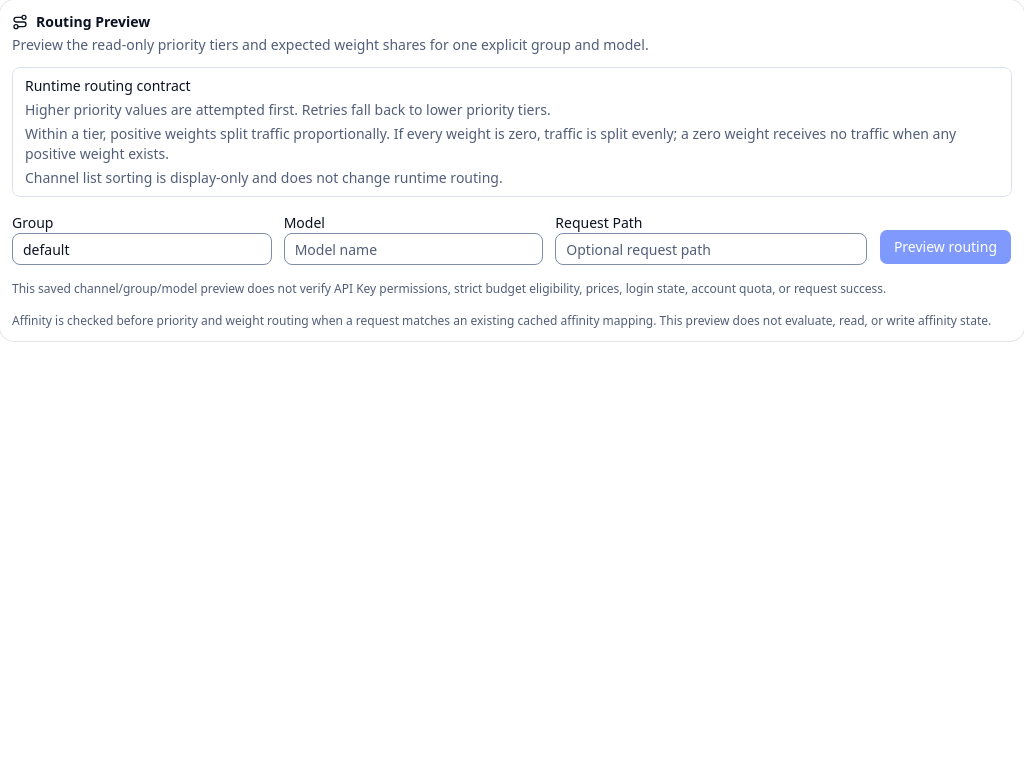
account scheduling preview › cooling remaining eligible accounts and unknown exclusions are explained without exposing raw reasons or widening narrow screens
Type "public-model" into the field named "Routing preview model" at (413, 249), box [284,233,543,265]
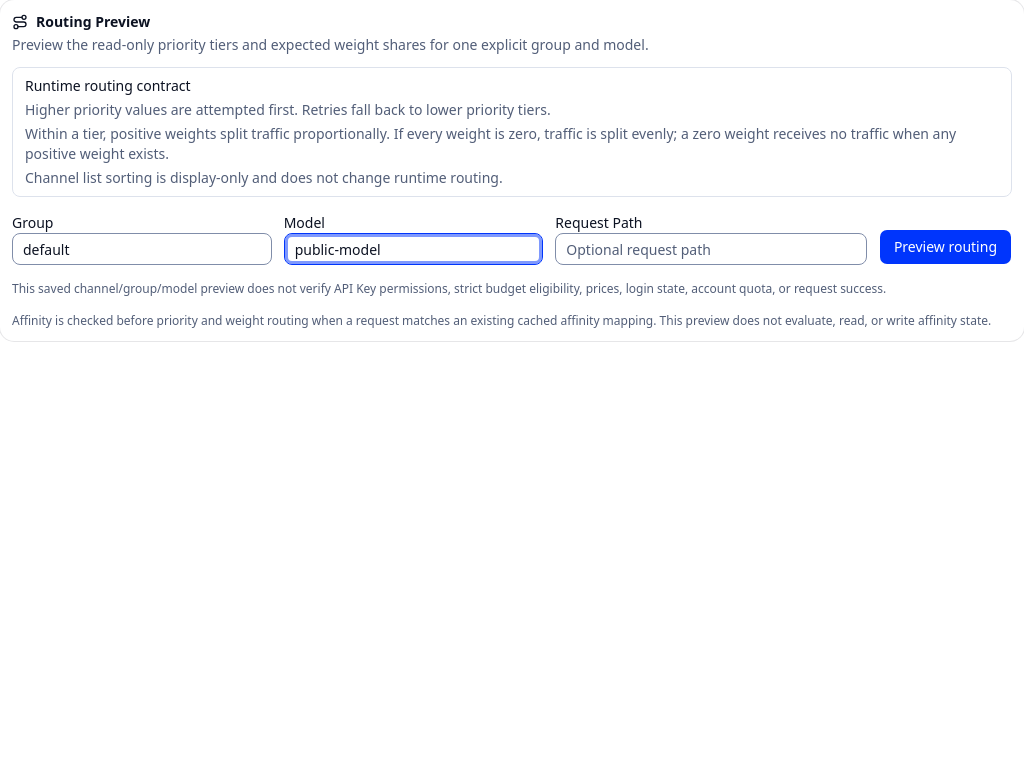
Click the button "Preview routing" at (945, 247), box [879,229,1012,265]
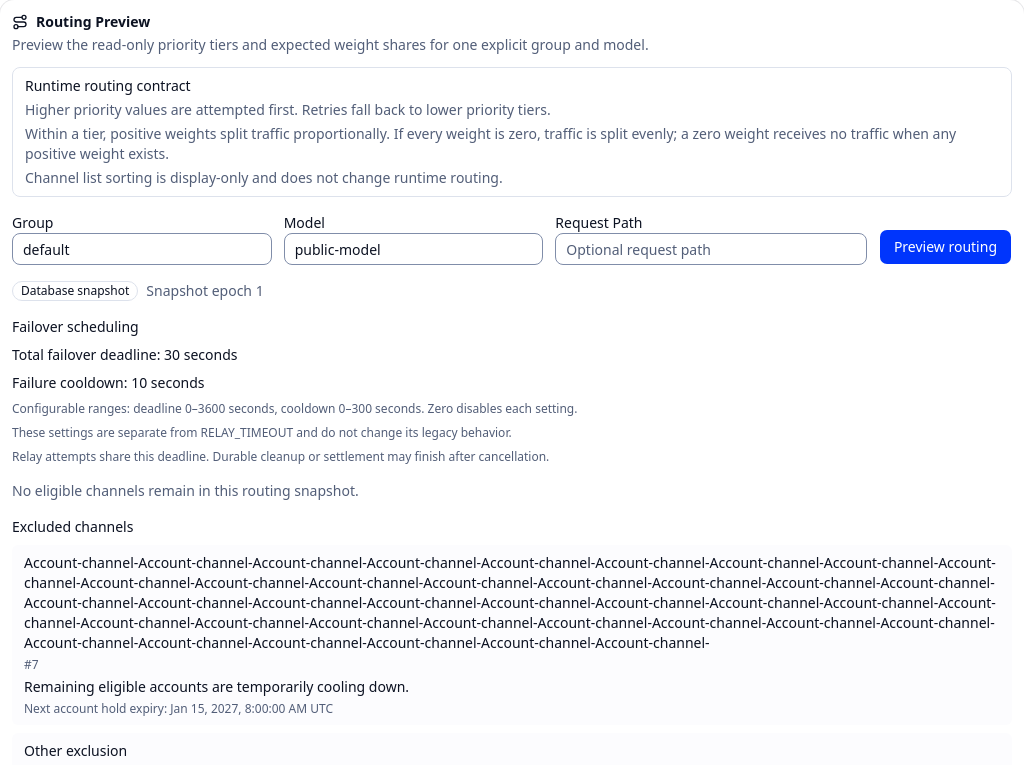
expect the text "Remaining eligible accounts are temporarily cooling down." is shown: met, box [24,677,409,696]
expect the text "Next account hold expiry: Jan 15, 2027, 8:00:00 AM UTC" is shown once: met, box [24,700,333,717]
expect the text "No eligible channels remain in this routing snapshot." is shown: met, box [12,481,359,500]
